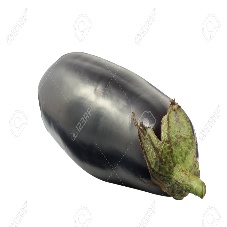eggplant: (38, 46, 195, 200)
